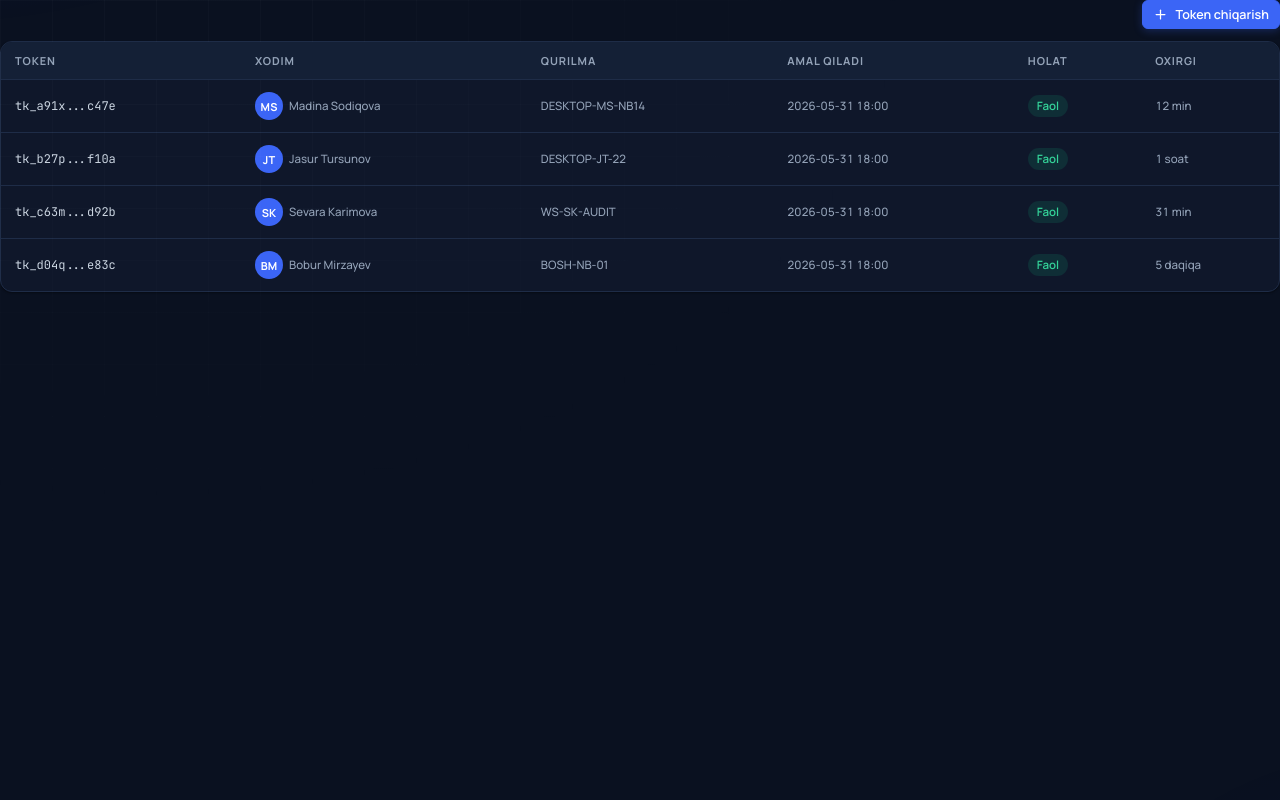
Test: Tokens tab › shows the issue button and opens the modal when canIssue is true
The width and height of the screenshot is (1280, 800).
Click the button "Token chiqarish": (1211, 14) x1=1142 y1=0 x2=1279 y2=29
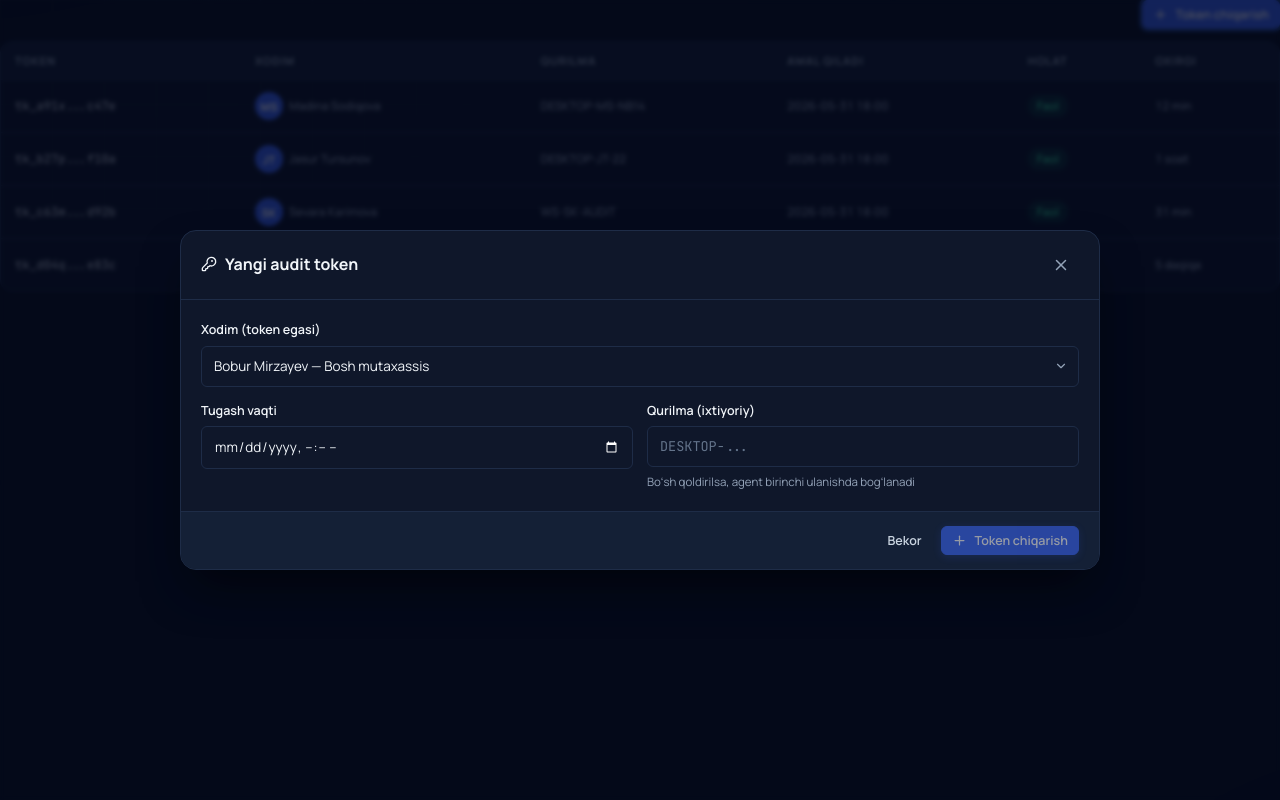
Check: the dialog is shown, box x1=180 y1=230 x2=1100 y2=570
